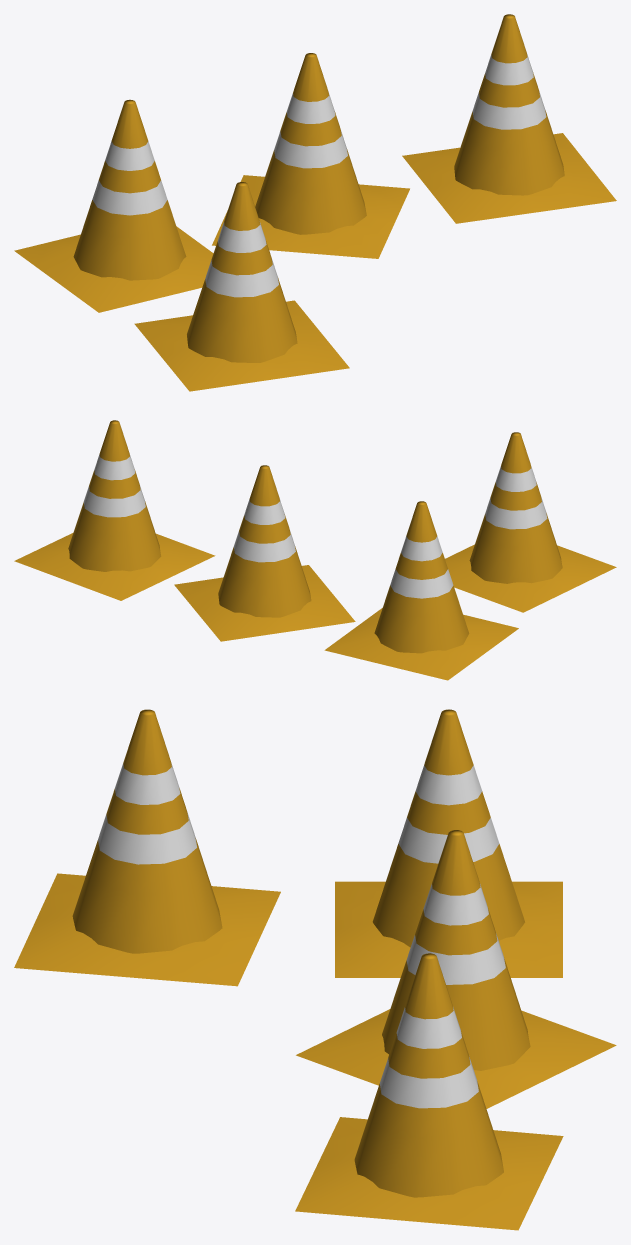
File: SM_TrafficCone_L.fbx
3 views of the same model, one above another, from view 1: azimuth 30°, elevation 25°; view 2: azimuth 150°, elevation 25°; view 3: azimuth 270°, elevation 25° (orthographic). The views are drawn at different scales.
Visible parts, largest first — view 1: pPlane8; view 2: pPlane8; view 3: pPlane8.
Part boxes in pixels (x1,y1,x2,y2): pPlane8: [14, 14, 616, 391]; pPlane8: [14, 420, 616, 680]; pPlane8: [14, 709, 616, 1230].
Bounding box in the file's own units: 252 × 71.53 × 180.
